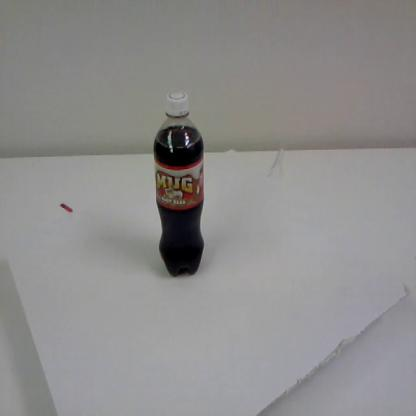bottle: (152, 89, 206, 279)
